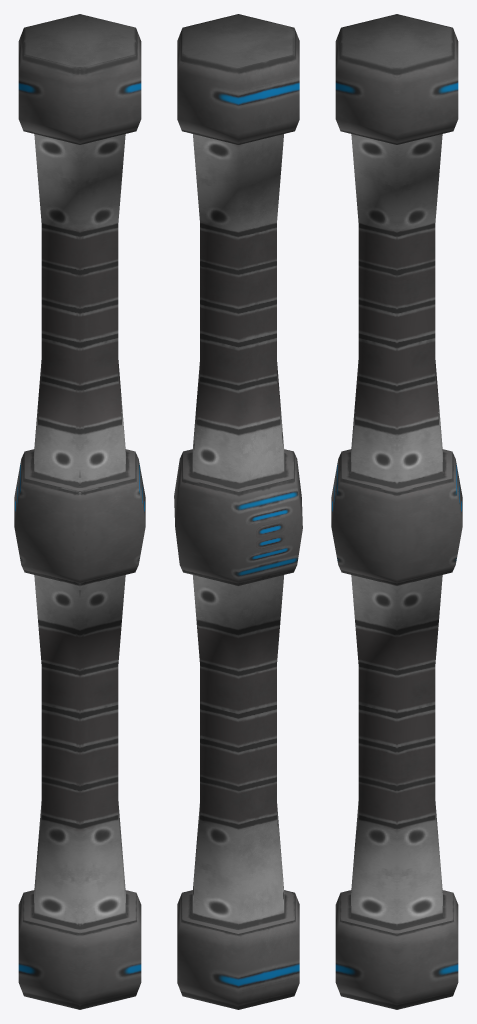
The model's file is EnergySwordD01.fbx.
3 views of the same model, side by side, from view 1: azimuth 90°, elevation 25°; view 2: azimuth 210°, elevation 25°; view 3: azimuth 270°, elevation 25° (orthographic).
Parts seen in each view (by area): view 1: LightsaberD05; view 2: LightsaberD05; view 3: LightsaberD05.
Part boxes in pixels (left/top/right/bottom): LightsaberD05: left=14, top=14, right=145, bottom=1009; LightsaberD05: left=174, top=14, right=302, bottom=1009; LightsaberD05: left=331, top=14, right=462, bottom=1009.
Bounding box in the file's own units: 2.39 × 16.98 × 2.14.
